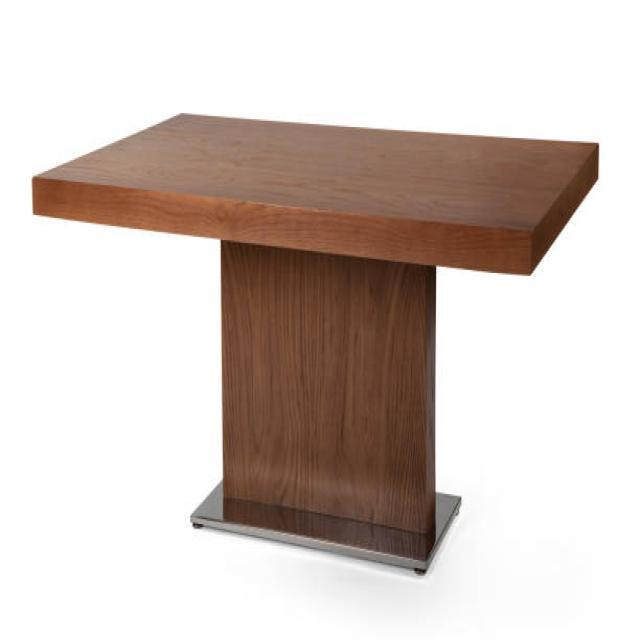table: (32, 108, 600, 577)
